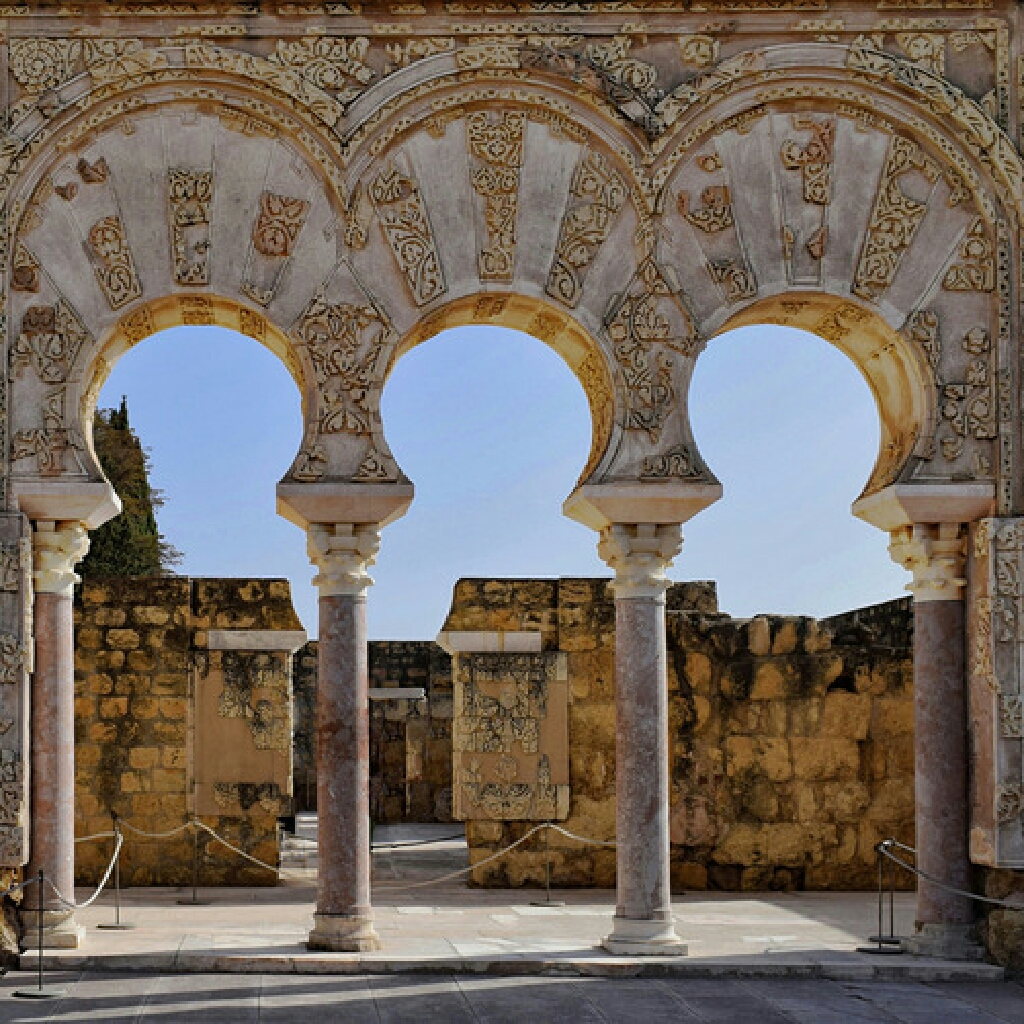arco-herradura: (629, 269, 945, 571), (332, 269, 643, 563), (36, 280, 344, 555)
